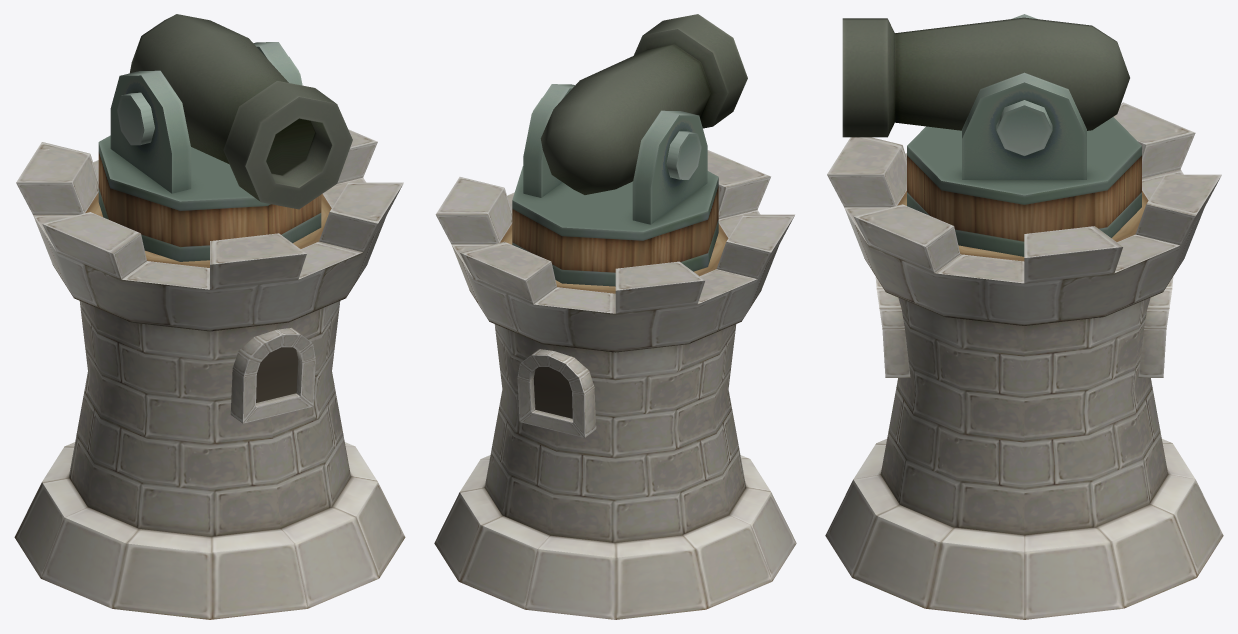
Rendered from Tower03.FBX.
3 renders of one model, left to right at view 1: azimuth 30°, elevation 25°; view 2: azimuth 150°, elevation 25°; view 3: azimuth 270°, elevation 25°, orthographic. The views are drawn at different scales.
Visible parts, largest first — view 1: Tower, Cannon, CannonBar; view 2: Tower, CannonBar, Cannon; view 3: Tower, CannonBar, Cannon.
Boxes of the visible parts, left/top/right/bottom form: Tower: left=14, top=129, right=405, bottom=619; Cannon: left=130, top=14, right=352, bottom=209; CannonBar: left=98, top=42, right=321, bottom=261; Tower: left=434, top=150, right=796, bottom=619; CannonBar: left=512, top=84, right=718, bottom=286; Cannon: left=540, top=14, right=747, bottom=194; Tower: left=825, top=102, right=1223, bottom=619; CannonBar: left=907, top=14, right=1141, bottom=256; Cannon: left=842, top=17, right=1129, bottom=137.
Size of the model in its own units: 270 by 386 by 270.
